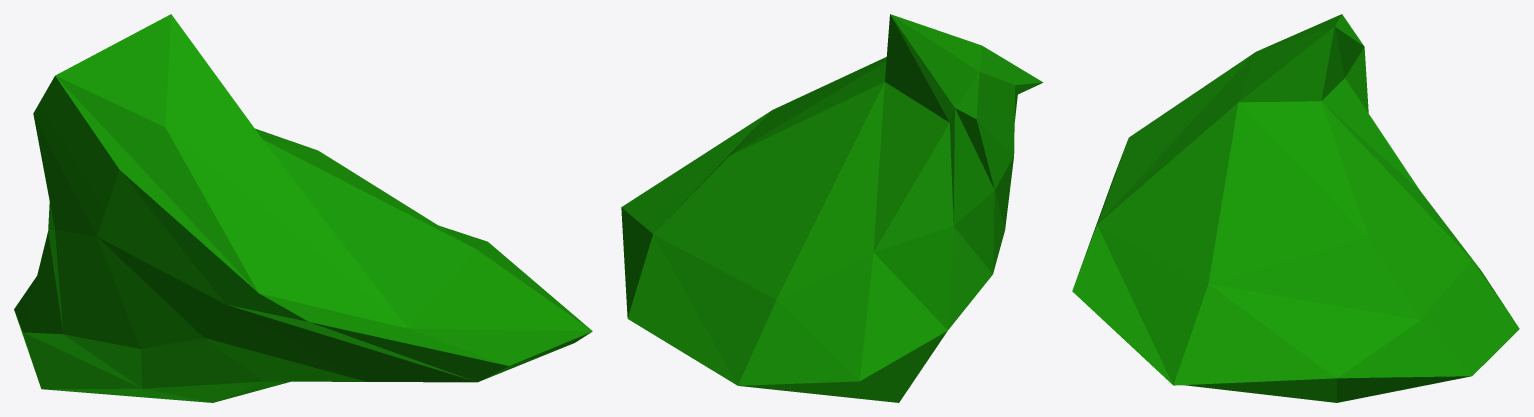
The model's file is Bush 3.fbx.
The picture shows the model from 3 angles, left to right: view 1: azimuth 30°, elevation 25°; view 2: azimuth 150°, elevation 25°; view 3: azimuth 270°, elevation 25°; orthographic projection. The views are drawn at different scales.
Visible parts, largest first — view 1: Bush3; view 2: Bush3; view 3: Bush3.
Boxes of the visible parts, x1,y1,x2,y2 form: Bush3: [14, 14, 592, 402]; Bush3: [621, 14, 1043, 402]; Bush3: [1072, 14, 1519, 402].
Size of the model in its own units: 1.16 by 1.01 by 1.34.
